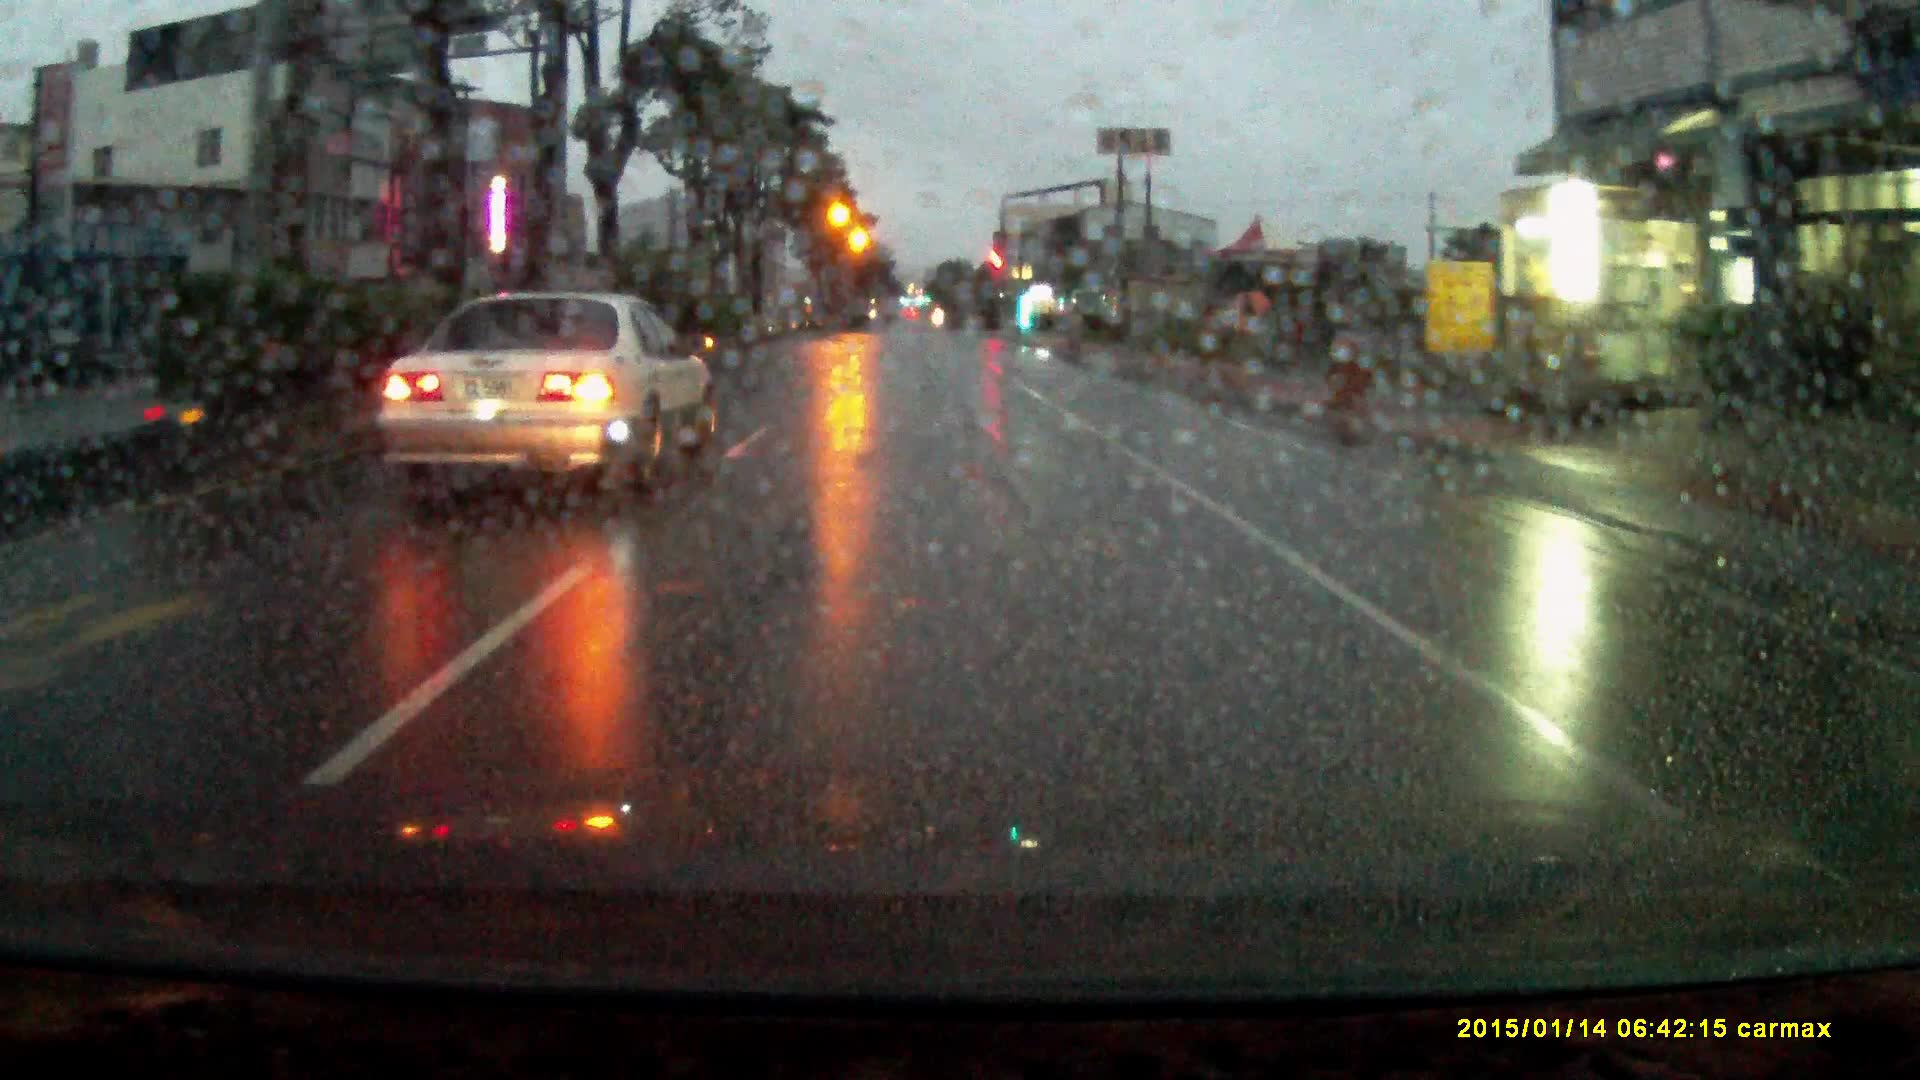vehicle: (371, 289, 720, 506)
